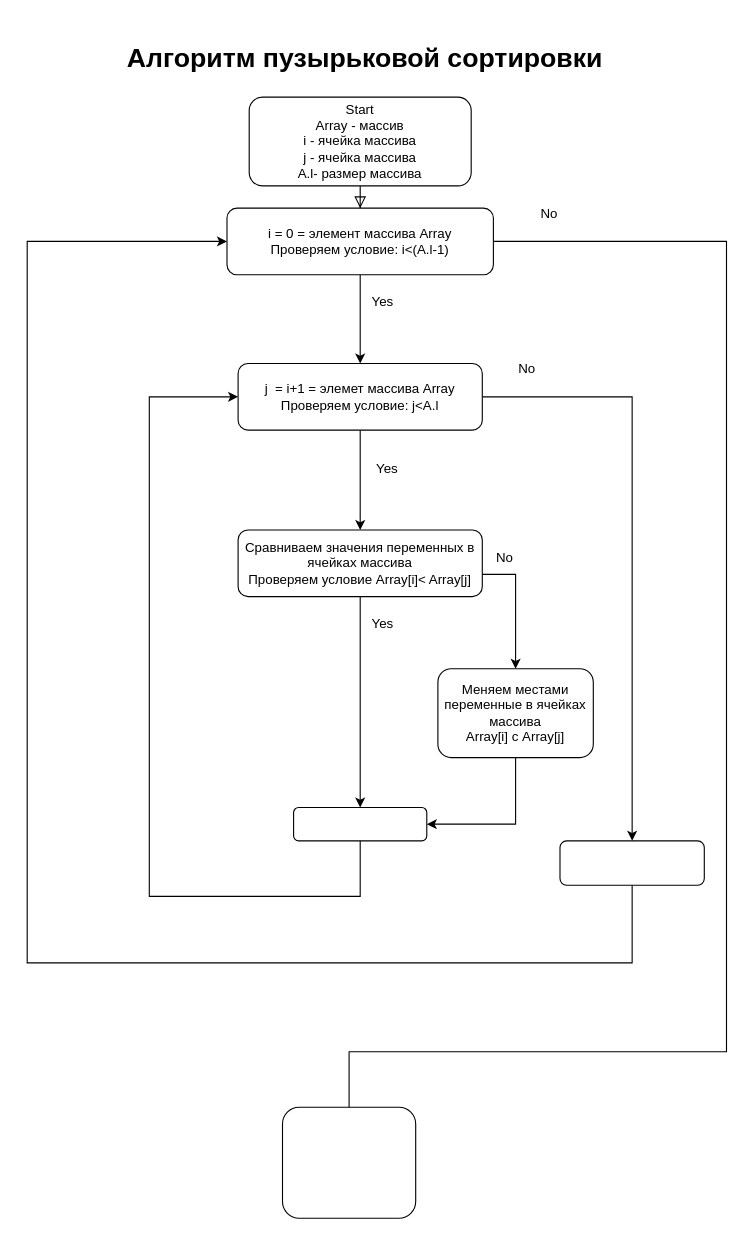
The diagram is 755 pixels wide and 1238 high, and some of its shapes have lost their labels. The shapes that lost their labels are listed below. From the top down, each one's centre as x and y in pixels, then its label:
At point 359,823: "j увеличиваем на 1".
At point 631,862: "i увеличиваем на 1".
At point 348,1162: "Конец Массив Array отсортирован по возростанию значения переменных".
